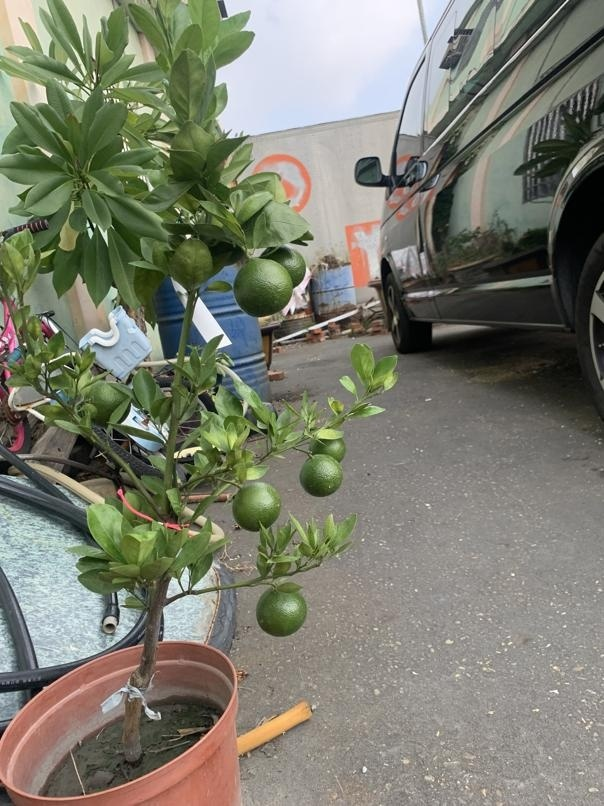Tangerine: (233, 259, 292, 318), (254, 580, 310, 637), (230, 476, 281, 529), (299, 453, 344, 499)
